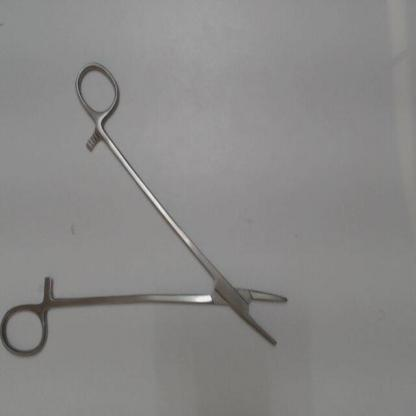8 Mayo Needle Holder: (0, 55, 306, 364)
